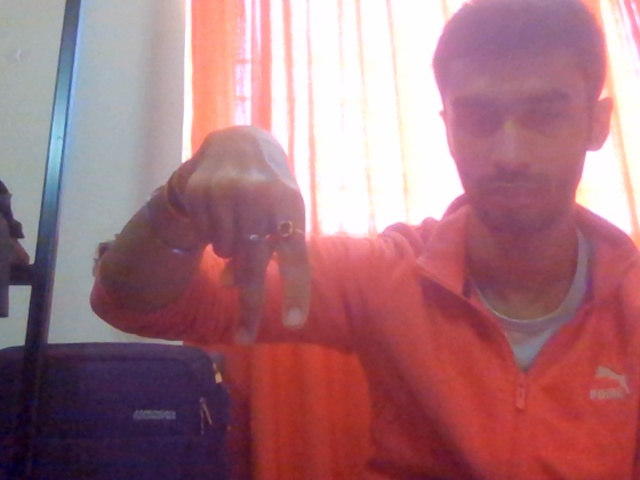P: (173, 111, 376, 417)
